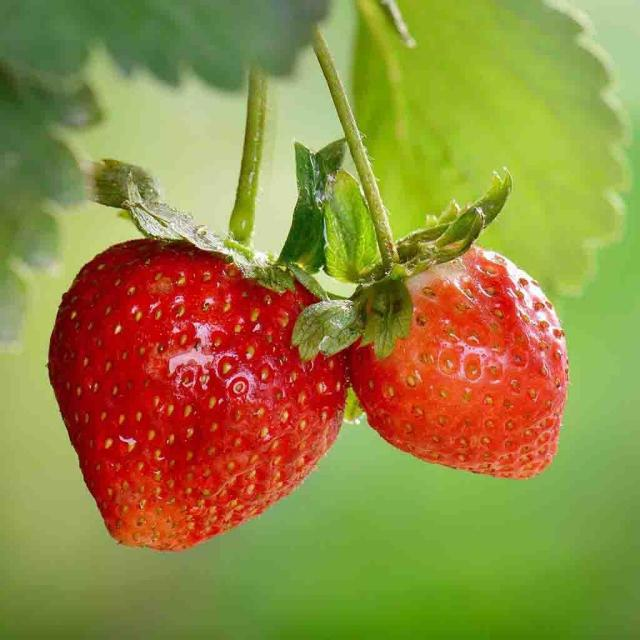strawberry: (37, 233, 347, 554), (348, 229, 576, 487)
